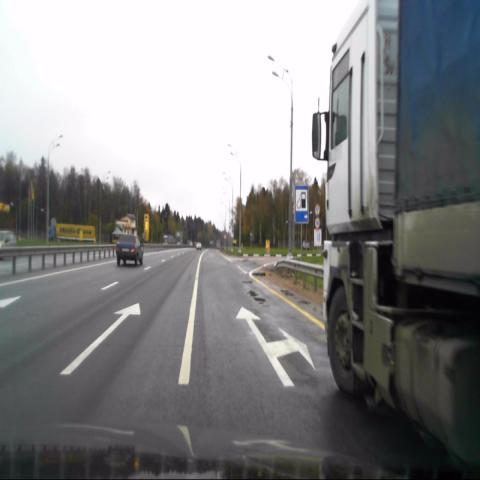7_3: (295, 182, 308, 224)
